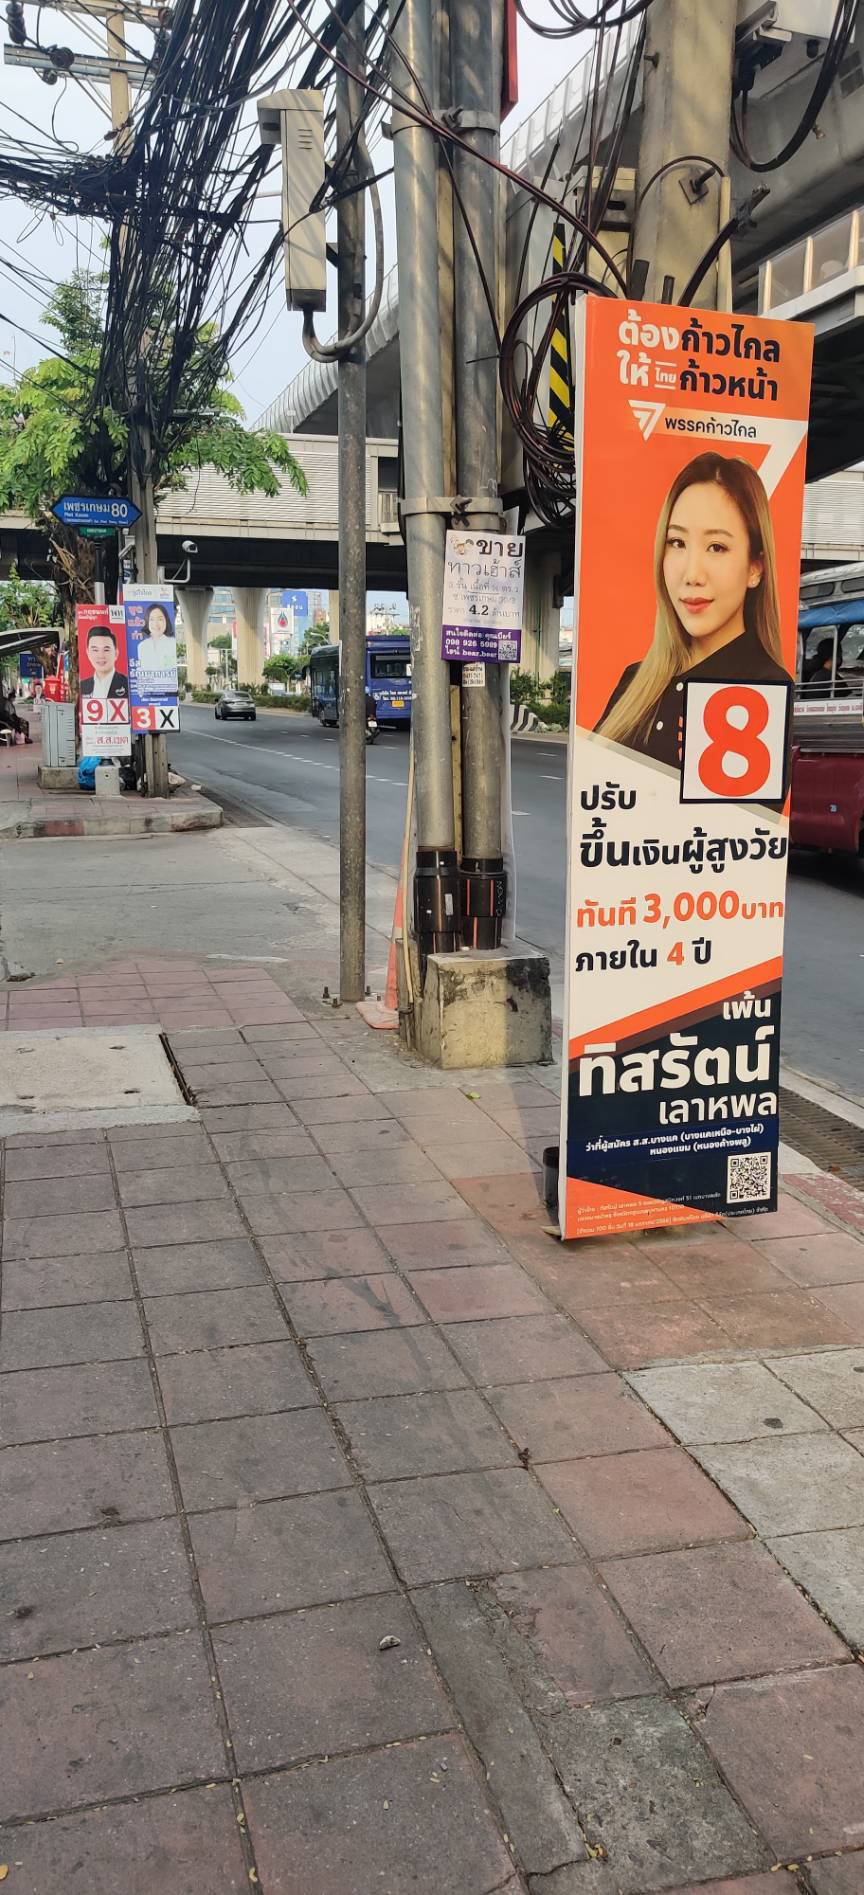Banner: (564, 294, 811, 1246), (73, 607, 133, 757), (126, 580, 182, 730)
